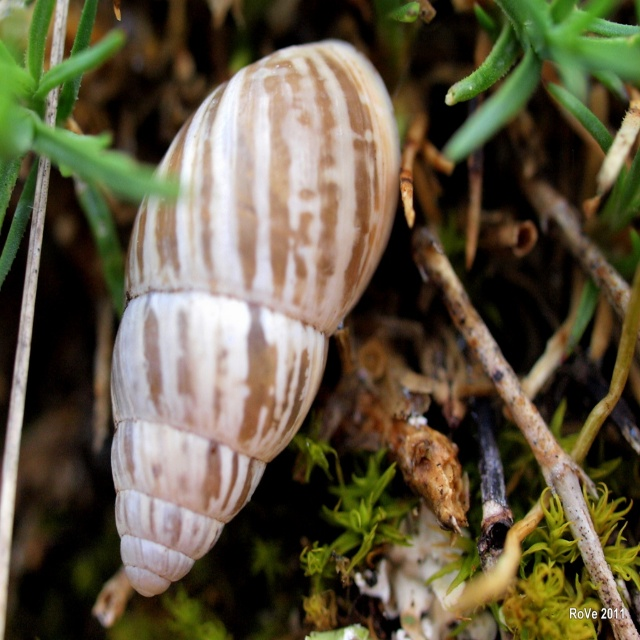Snail: (98, 37, 411, 600)
